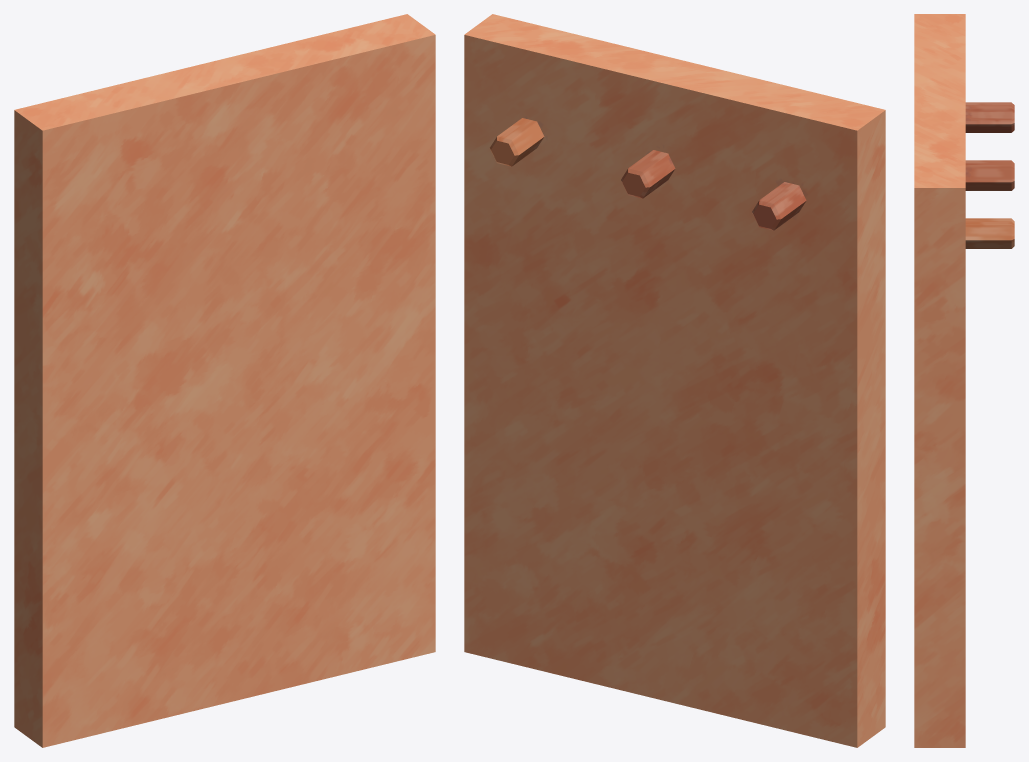
The model's file is wall_upper_low.fbx.
3 renders of one model, left to right at view 1: azimuth 30°, elevation 25°; view 2: azimuth 150°, elevation 25°; view 3: azimuth 270°, elevation 25°, orthographic. The views are drawn at different scales.
Visible parts, largest first — view 1: wall_upper; view 2: wall_upper; view 3: wall_upper.
Boxes of the visible parts, <box> form: wall_upper: <box>14,14,435,747</box>; wall_upper: <box>464,14,885,747</box>; wall_upper: <box>914,14,1014,747</box>.
Size of the model in its own units: 8 by 12 by 1.95.
Materials: 1 (1 with a texture image).
